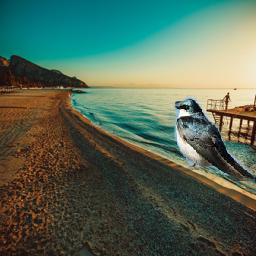Swallow: (173, 97, 255, 182)
